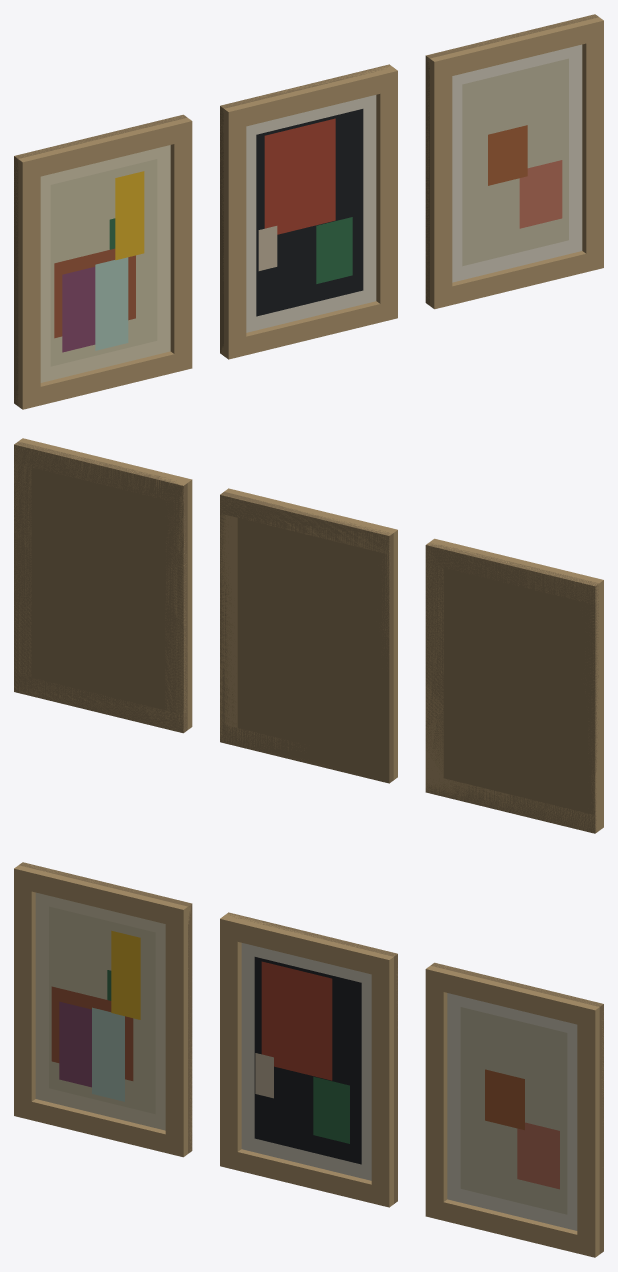
Rendered from picture-frame-27.glb.
The picture shows the model from 3 angles, top to bottom: view 1: azimuth 30°, elevation 25°; view 2: azimuth 150°, elevation 25°; view 3: azimuth 330°, elevation 25°; orthographic projection.
Visible parts, largest first — view 1: picture_frame_27; view 2: picture_frame_27; view 3: picture_frame_27.
Boxes of the visible parts, x1=… form: picture_frame_27: x1=14, y1=14, x2=603, y2=409; picture_frame_27: x1=14, y1=438, x2=603, y2=833; picture_frame_27: x1=14, y1=862, x2=603, y2=1257.
Bounding box in the file's own units: 0.9592 × 0.3902 × 0.0251.
